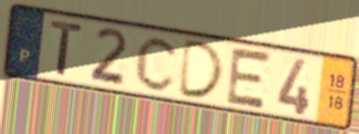2: (88, 26, 130, 88)
4: (274, 54, 313, 119)
C: (133, 34, 182, 93)
D: (175, 37, 227, 101)
E: (223, 44, 275, 112)
T: (48, 18, 86, 78)
